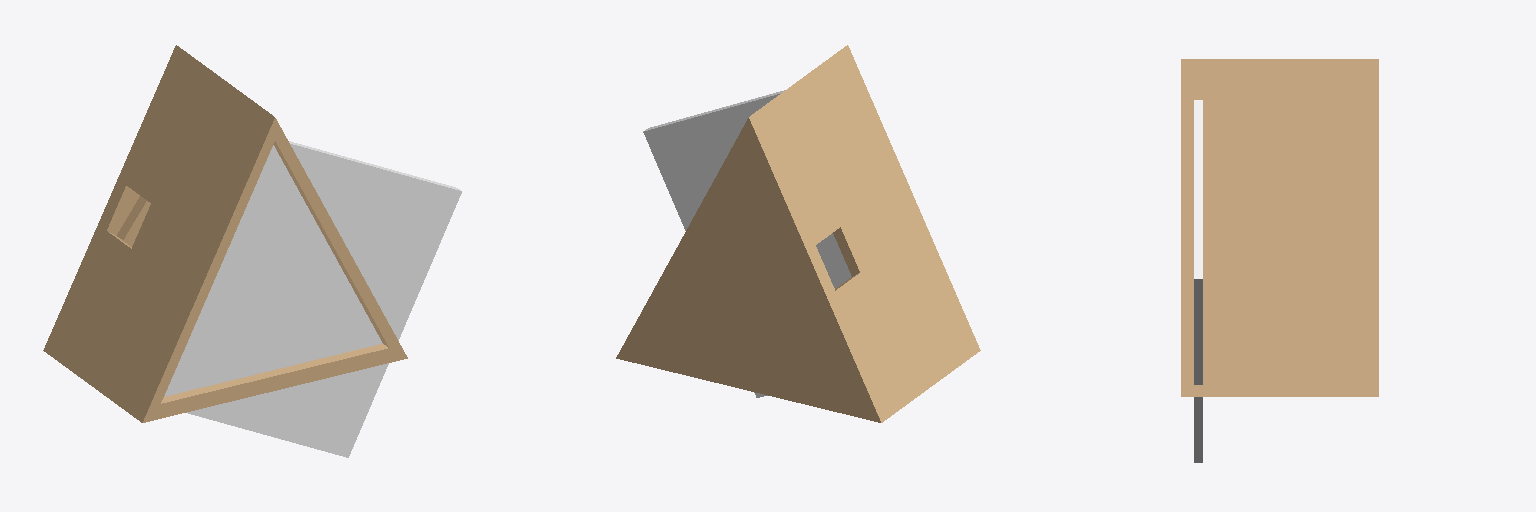
Rendered from tinker.obj.
The picture shows the model from 3 angles: view 1: azimuth 30°, elevation 25°; view 2: azimuth 150°, elevation 25°; view 3: azimuth 270°, elevation 25°; orthographic projection.
Visible parts, largest first — view 1: obj_0; view 2: obj_0; view 3: obj_0.
Boxes of the visible parts, x1=… form: obj_0: x1=43, y1=45, x2=461, y2=457; obj_0: x1=616, y1=45, x2=980, y2=422; obj_0: x1=1181, y1=59, x2=1378, y2=462.
Size of the model in its own units: 152 by 163 by 80.14.